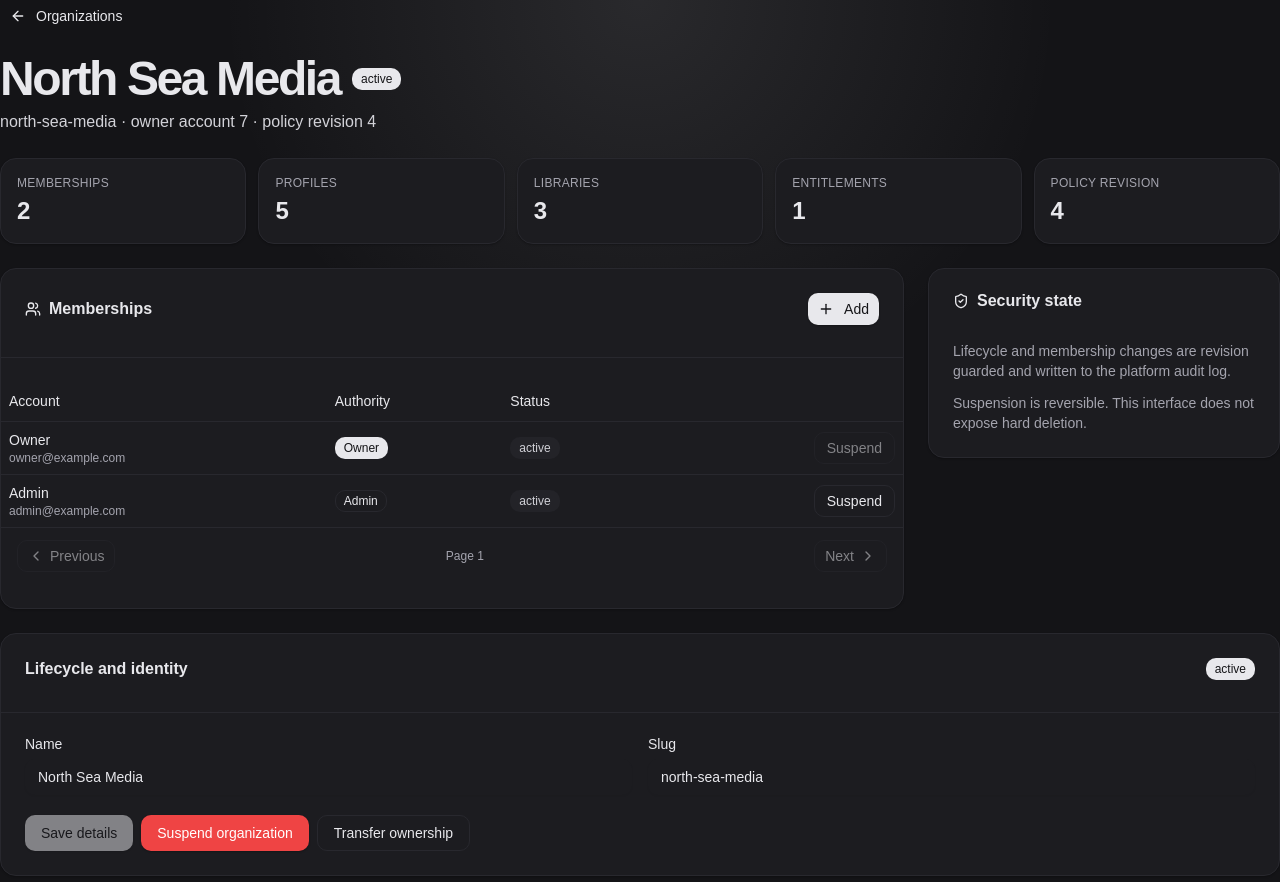
Test case: OrganizationDetailPage › reloads current revisions after a stale lifecycle mutation
Expected: the heading "North Sea Media" is shown, top-left (0, 56), bottom-right (340, 102)
Click the button "Suspend organization".
click(225, 833)  # box top-left (141, 815), bottom-right (309, 851)
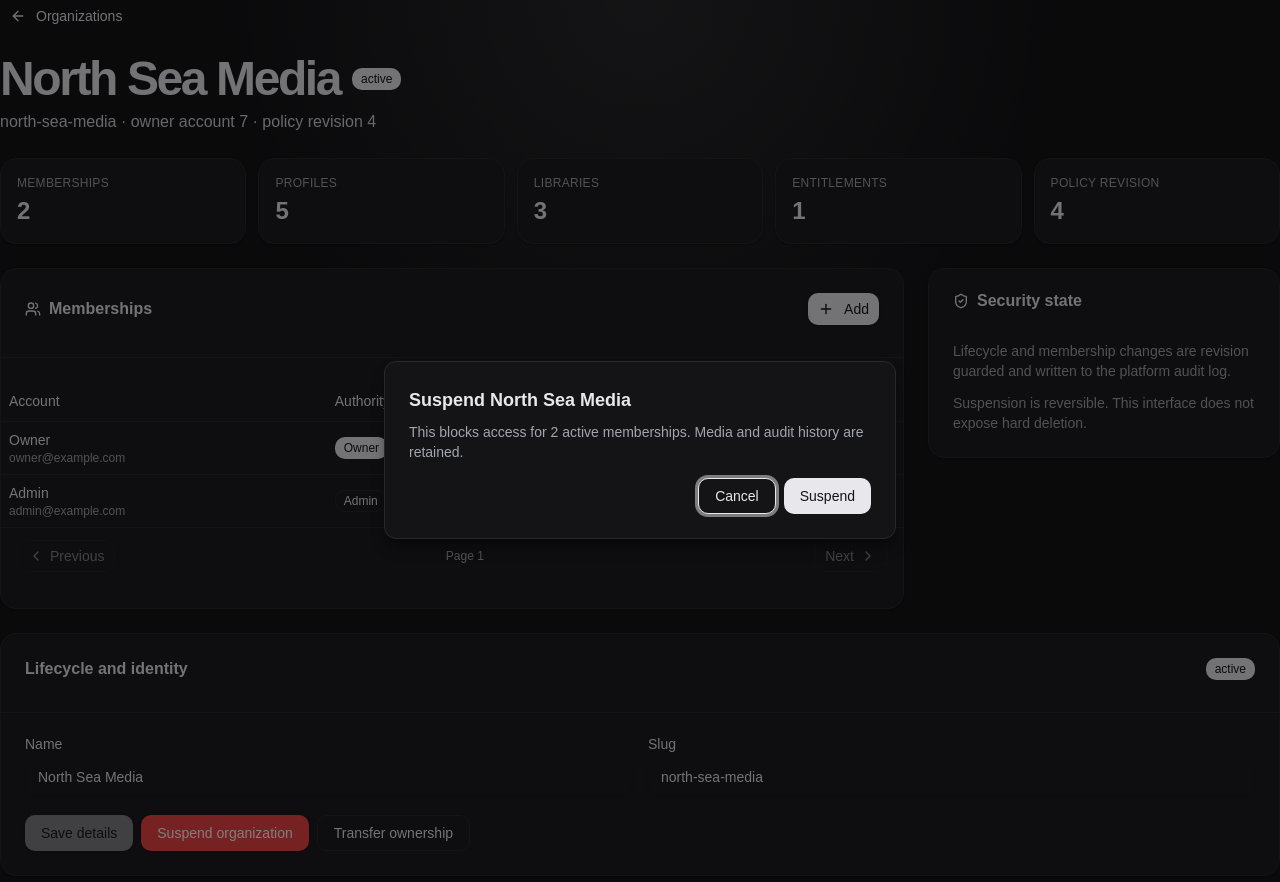
Click the button "Suspend".
click(827, 496)  # box top-left (784, 478), bottom-right (871, 514)
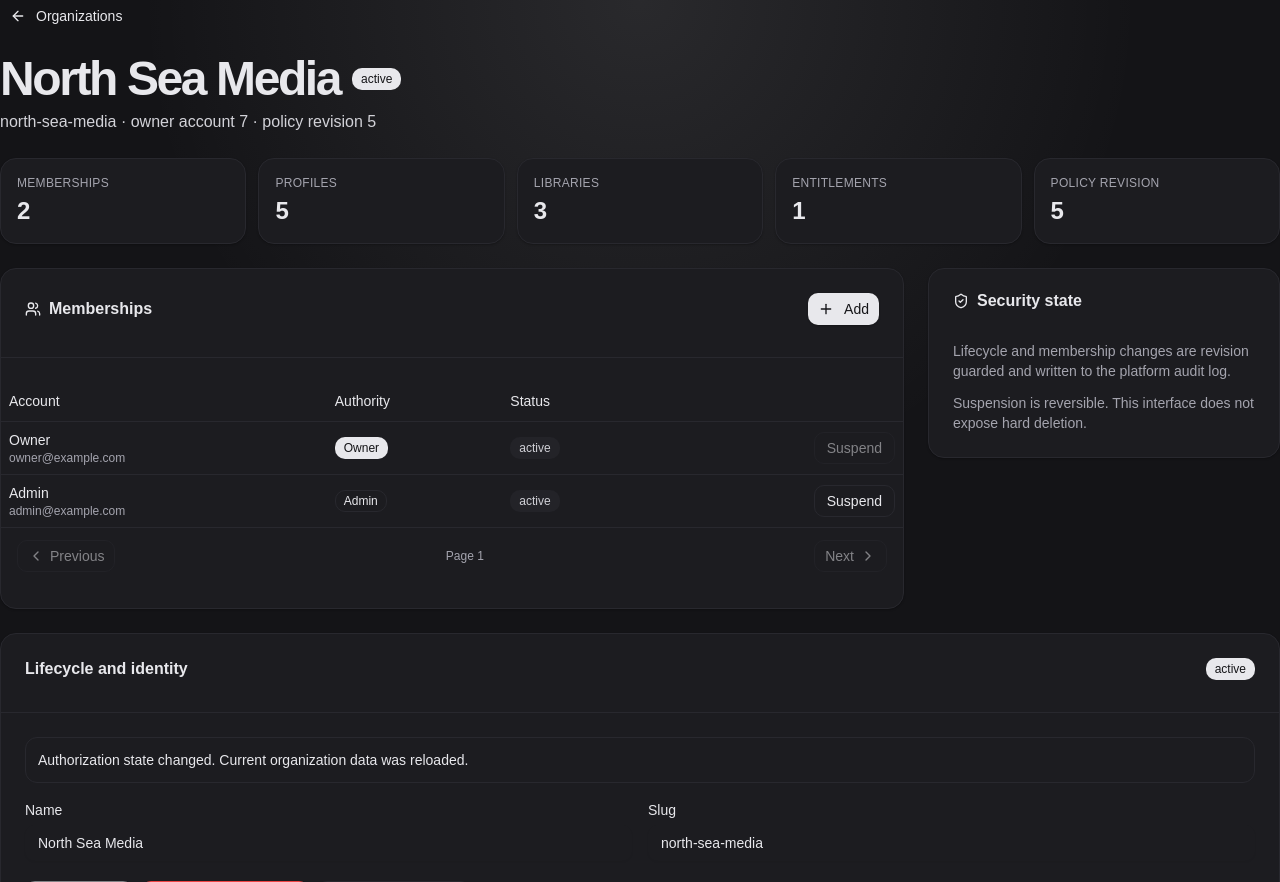
Now the message reads "Authorization state changed. Current organization data was reloaded.", box top-left (38, 752), bottom-right (468, 768)
